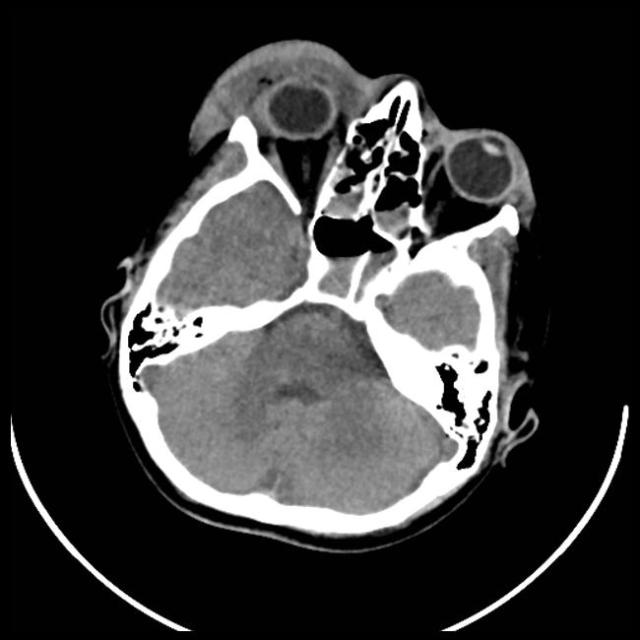lesion: (104, 38, 544, 544)
